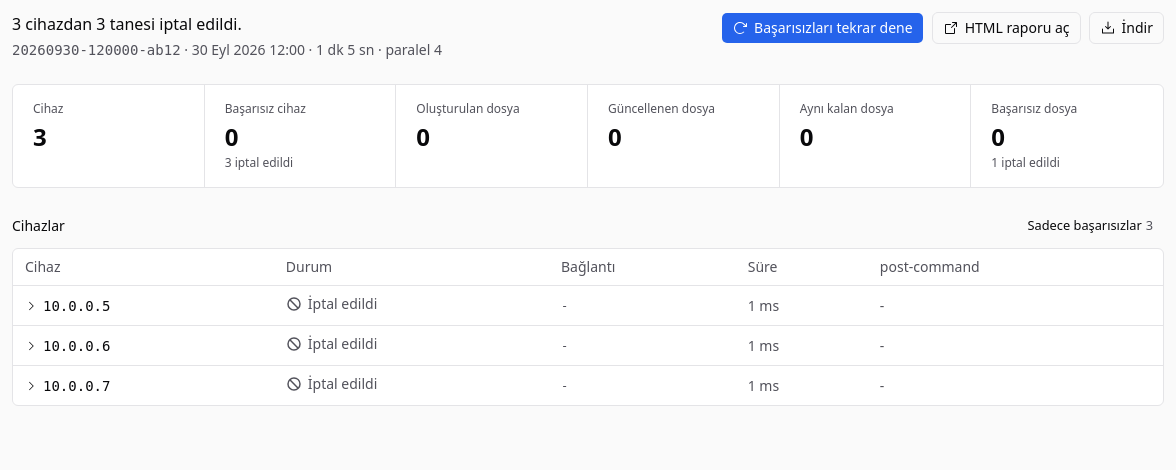
Test: ReportView › shows cancelled devices as Turkish text, never raw English
Expected: the text "İptal edildi" is shown 3 times, [286,294,377,314]; [286,334,377,354]; [286,374,377,394]
What coordinates should you click on to do the following:
click the button "10.0.0.6"
I would click on:
 (68, 346)
Its box is [25,336,110,356].
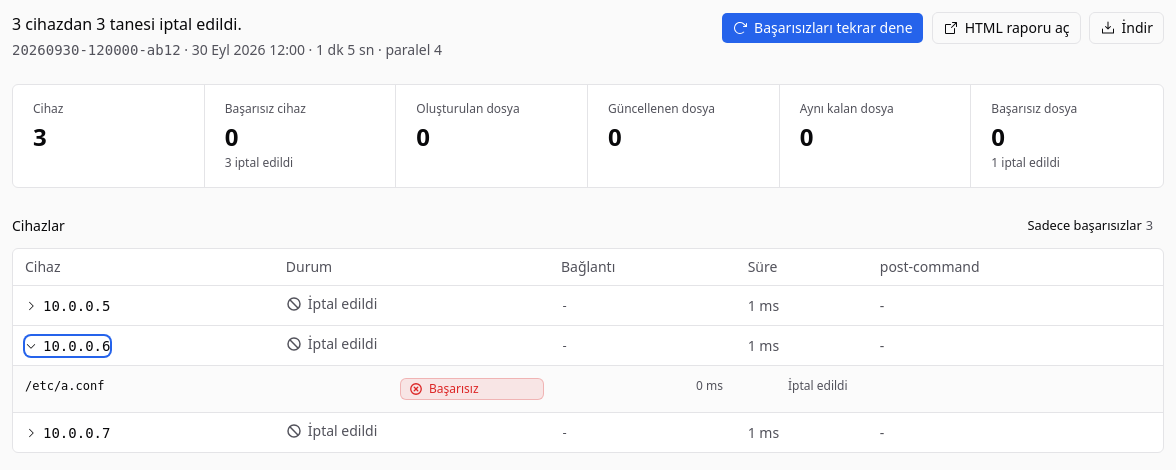
Now the text "İptal edildi" is shown 4 times, box [286,294,377,314]; [286,334,377,354]; [788,377,848,394]; [286,421,377,441]
